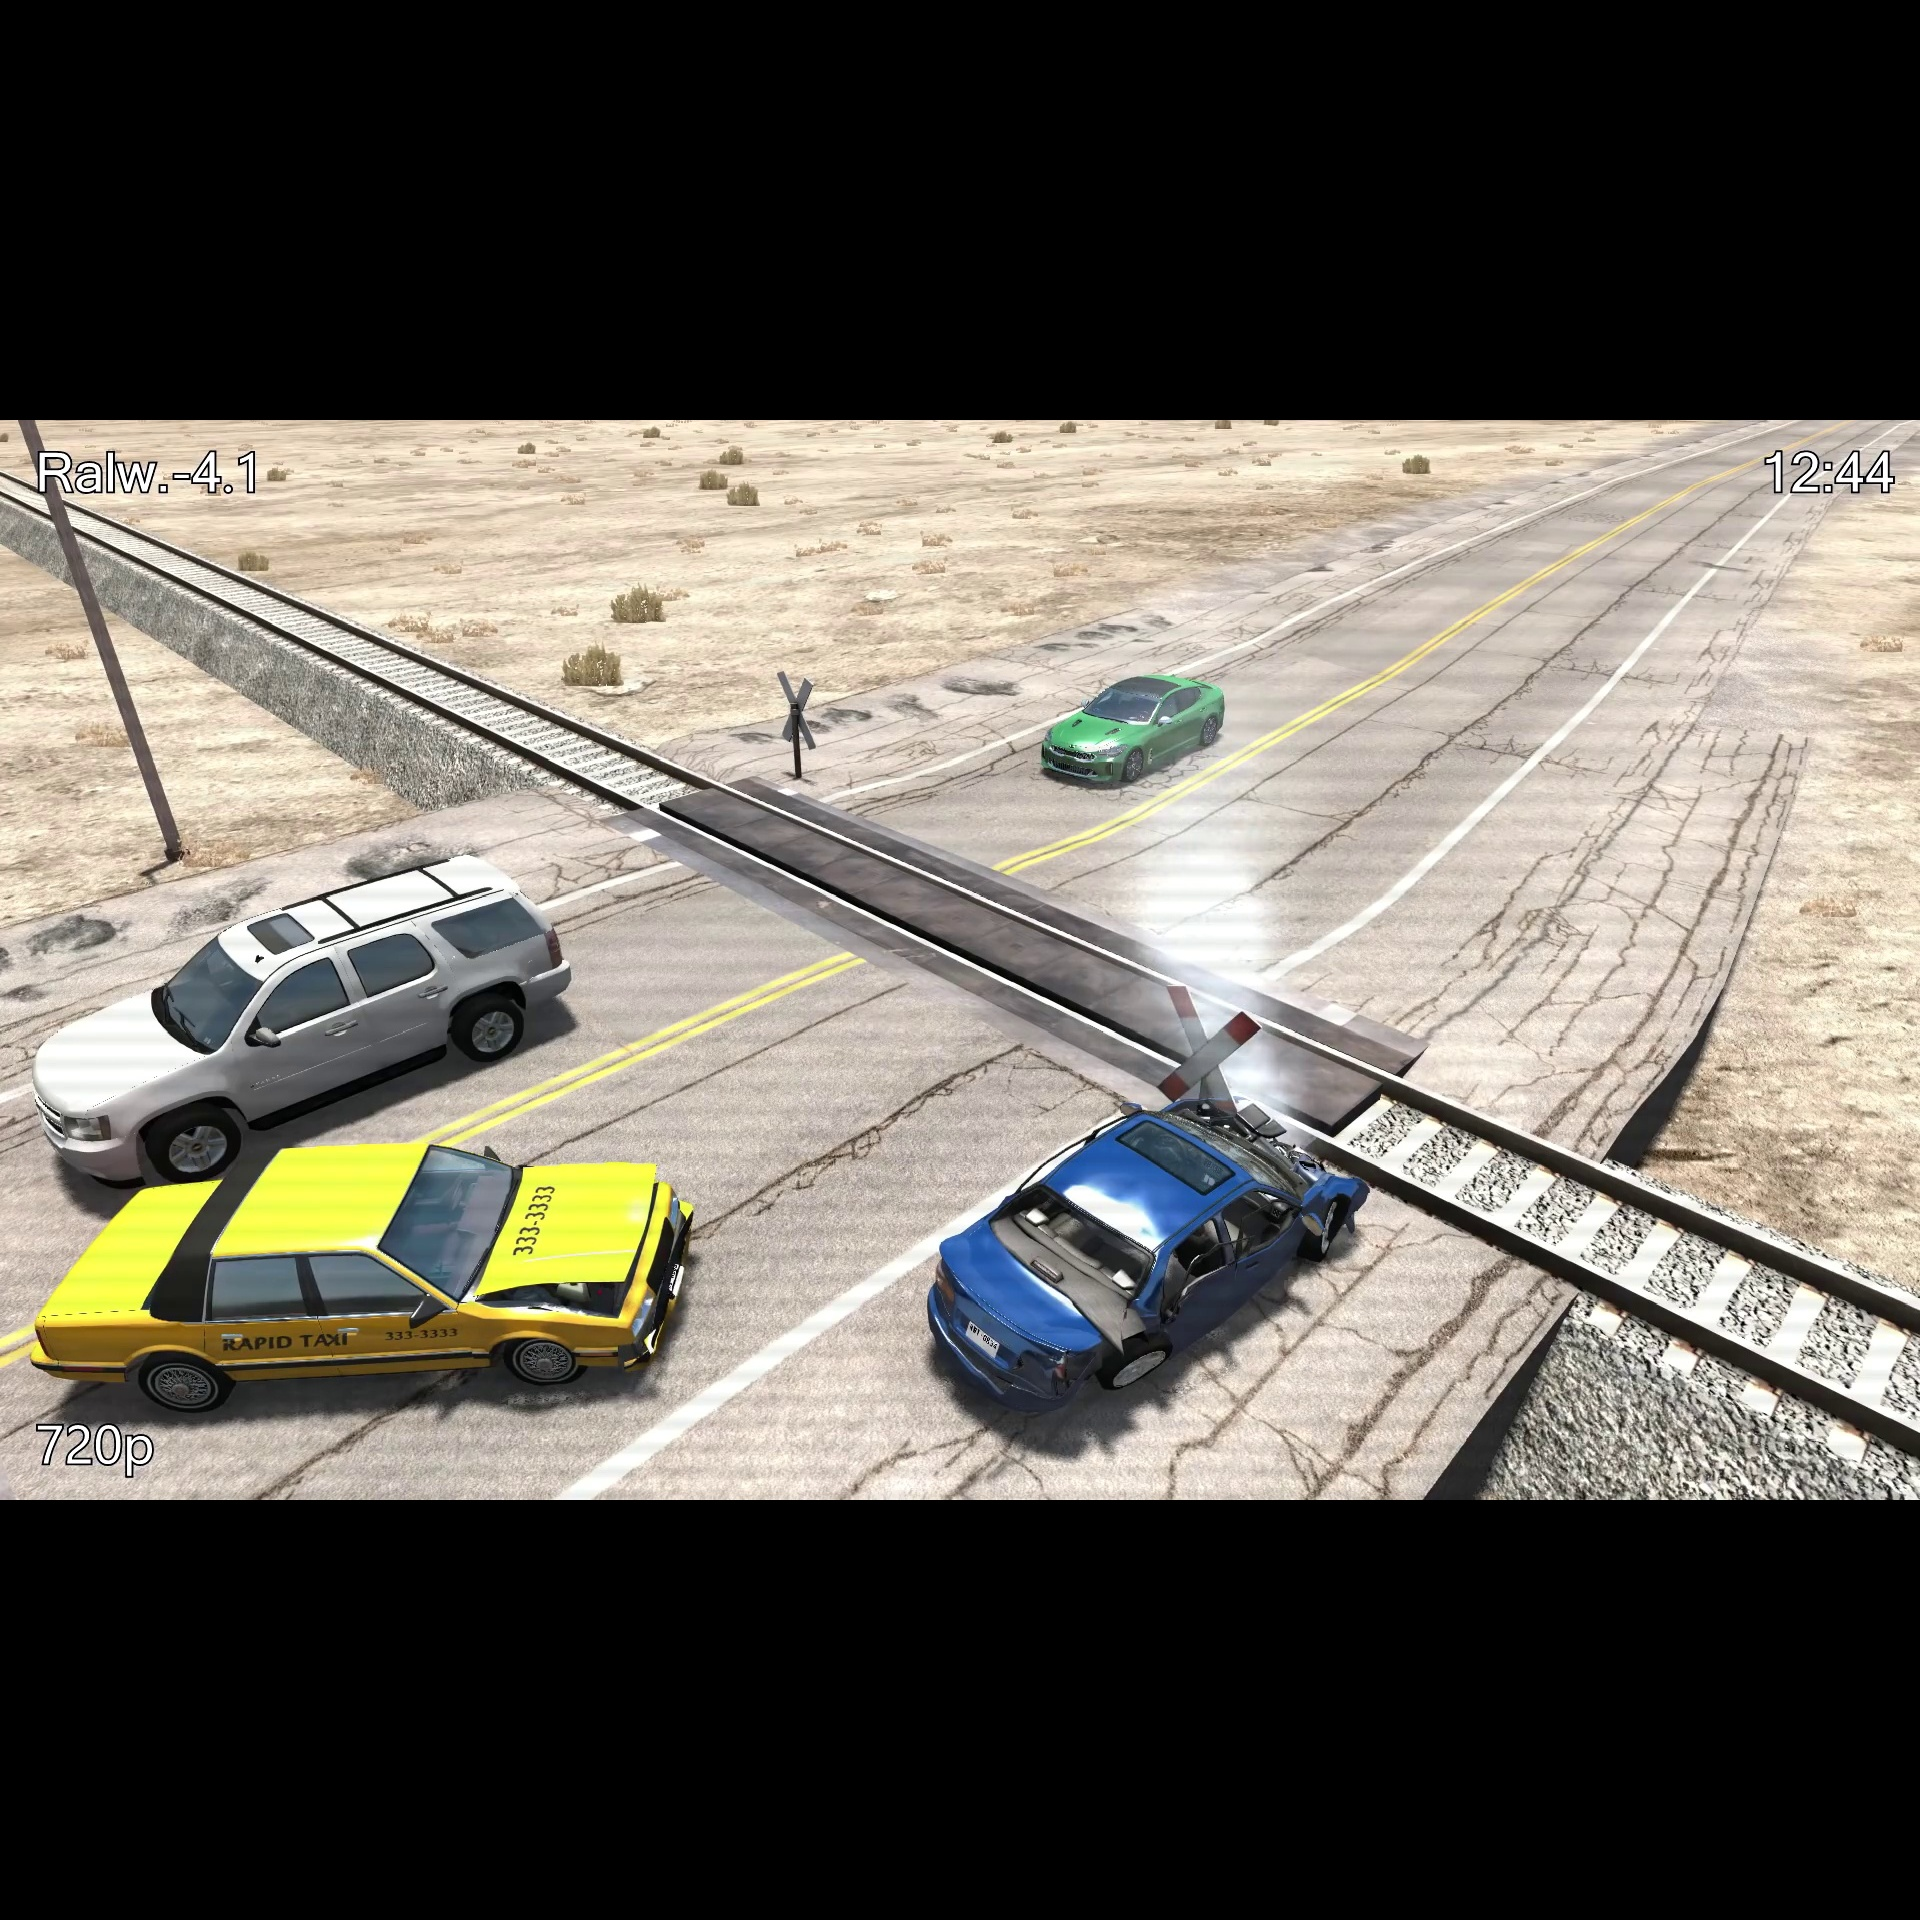vehicle: (30, 849, 580, 1197), (28, 1139, 703, 1422), (904, 1080, 1377, 1428), (1036, 672, 1234, 789)
